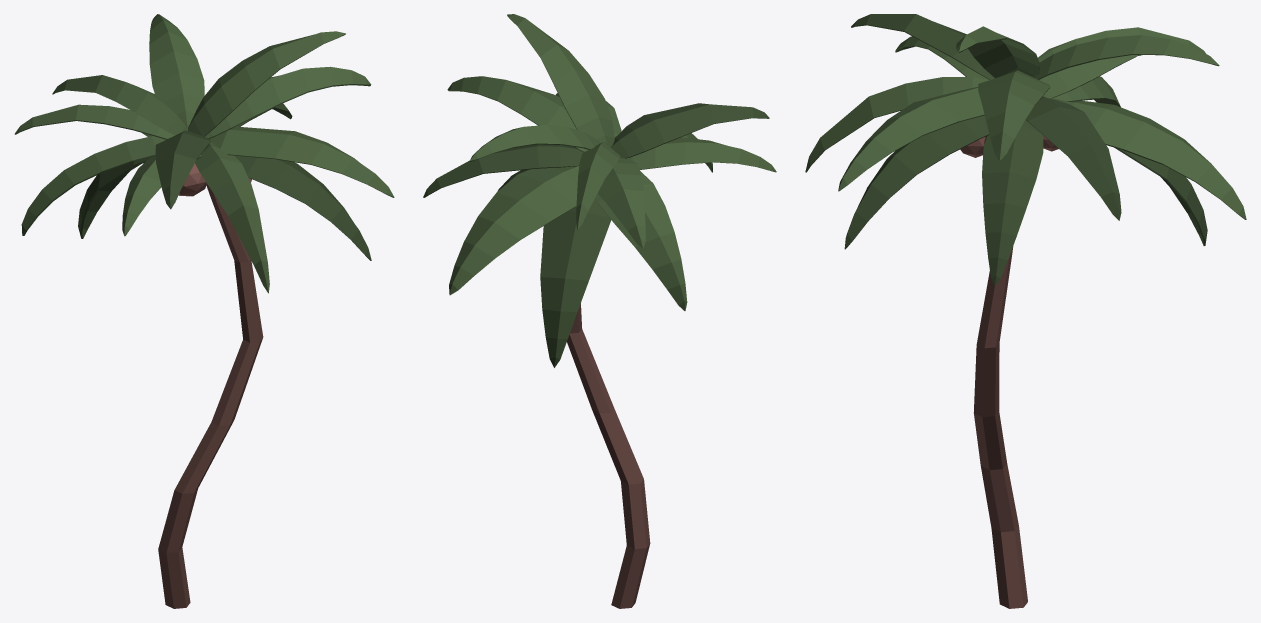
Rendered from PalmTree_4.glb.
3 renders of one model, left to right at view 1: azimuth 30°, elevation 25°; view 2: azimuth 150°, elevation 25°; view 3: azimuth 270°, elevation 25°, orthographic. The views are drawn at different scales.
Visible parts, largest first — view 1: PalmTree_4; view 2: PalmTree_4; view 3: PalmTree_4.
Boxes of the visible parts, left/top/right/bottom form: PalmTree_4: left=14, top=14, right=394, bottom=608; PalmTree_4: left=423, top=14, right=776, bottom=608; PalmTree_4: left=805, top=14, right=1246, bottom=608.
Bounding box in the file's own units: 1.81 × 3.25 × 2.05.
